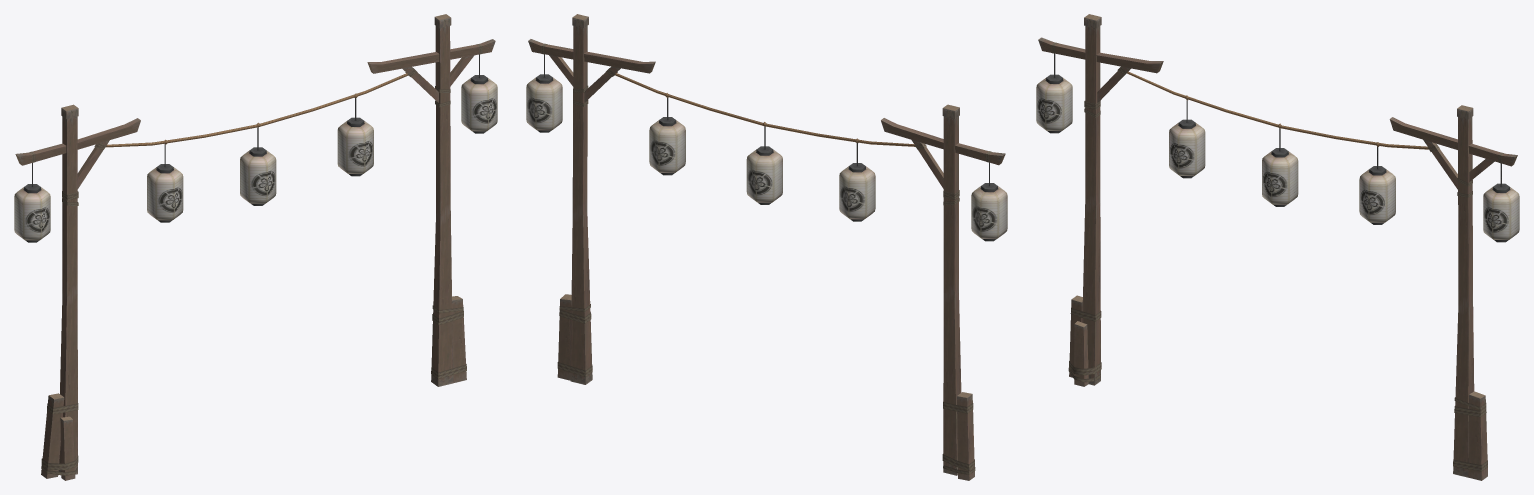
File: Homeworld_Exterior_Dq_Lamp_Dengjia_01_Lod0.fbx
3 renders of one model, left to right at view 1: azimuth 30°, elevation 25°; view 2: azimuth 150°, elevation 25°; view 3: azimuth 330°, elevation 25°, orthographic.
Parts seen in each view (by area): view 1: Area_Dq_Prop_Common_Dengjia_01_01_Lod0, Area_Dq_Prop_Common_Dengjia_01_02_Lod0; view 2: Area_Dq_Prop_Common_Dengjia_01_01_Lod0, Area_Dq_Prop_Common_Dengjia_01_02_Lod0; view 3: Area_Dq_Prop_Common_Dengjia_01_01_Lod0, Area_Dq_Prop_Common_Dengjia_01_02_Lod0.
Boxes of the visible parts, x1,y1,x2,y2 form: Area_Dq_Prop_Common_Dengjia_01_01_Lod0: (15,14,495,480); Area_Dq_Prop_Common_Dengjia_01_02_Lod0: (14,54,497,242); Area_Dq_Prop_Common_Dengjia_01_01_Lod0: (528,14,1005,480); Area_Dq_Prop_Common_Dengjia_01_02_Lod0: (526,54,1007,241); Area_Dq_Prop_Common_Dengjia_01_01_Lod0: (1038,14,1517,480); Area_Dq_Prop_Common_Dengjia_01_02_Lod0: (1036,53,1519,242).
Size of the model in its own units: 7.99 by 5.85 by 0.5302.
